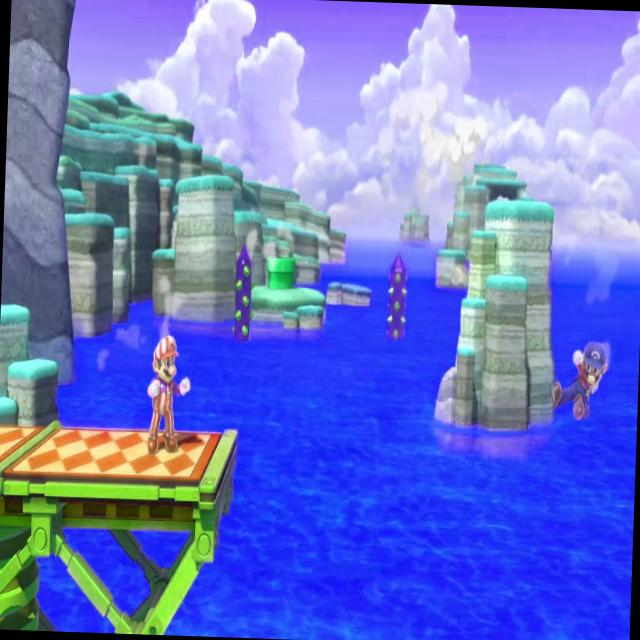Mario: (139, 324, 193, 458)
Mario-NA: (546, 336, 610, 426)
